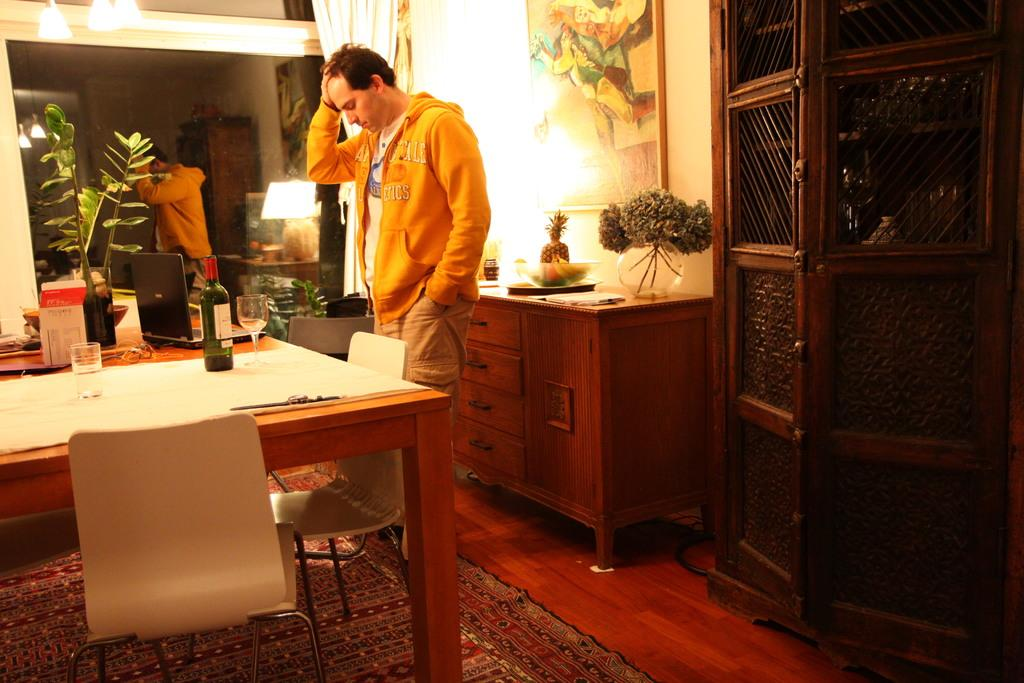Chair: (52, 427, 308, 663), (266, 331, 409, 600), (289, 313, 376, 361)
